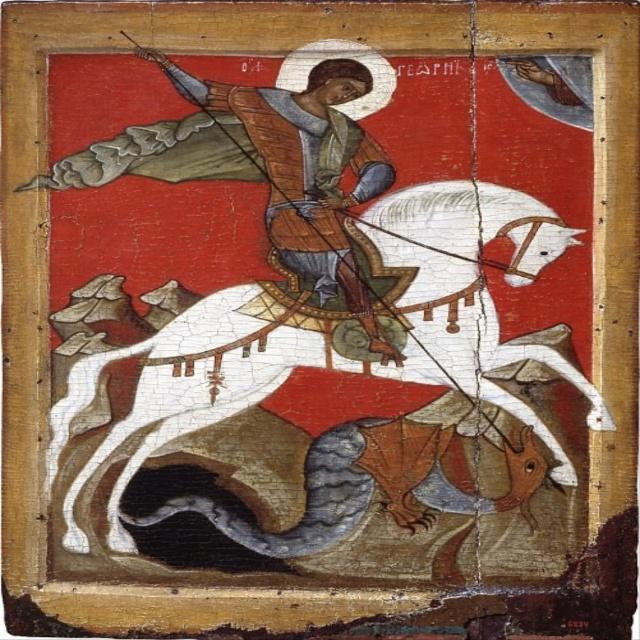aura: (278, 36, 399, 122)
christ_hand: (497, 54, 574, 110)
demon: (81, 419, 558, 559)
horse: (52, 168, 584, 539)
saint: (239, 26, 404, 318)
saint_george: (42, 24, 607, 586)
spear: (111, 38, 561, 490)
